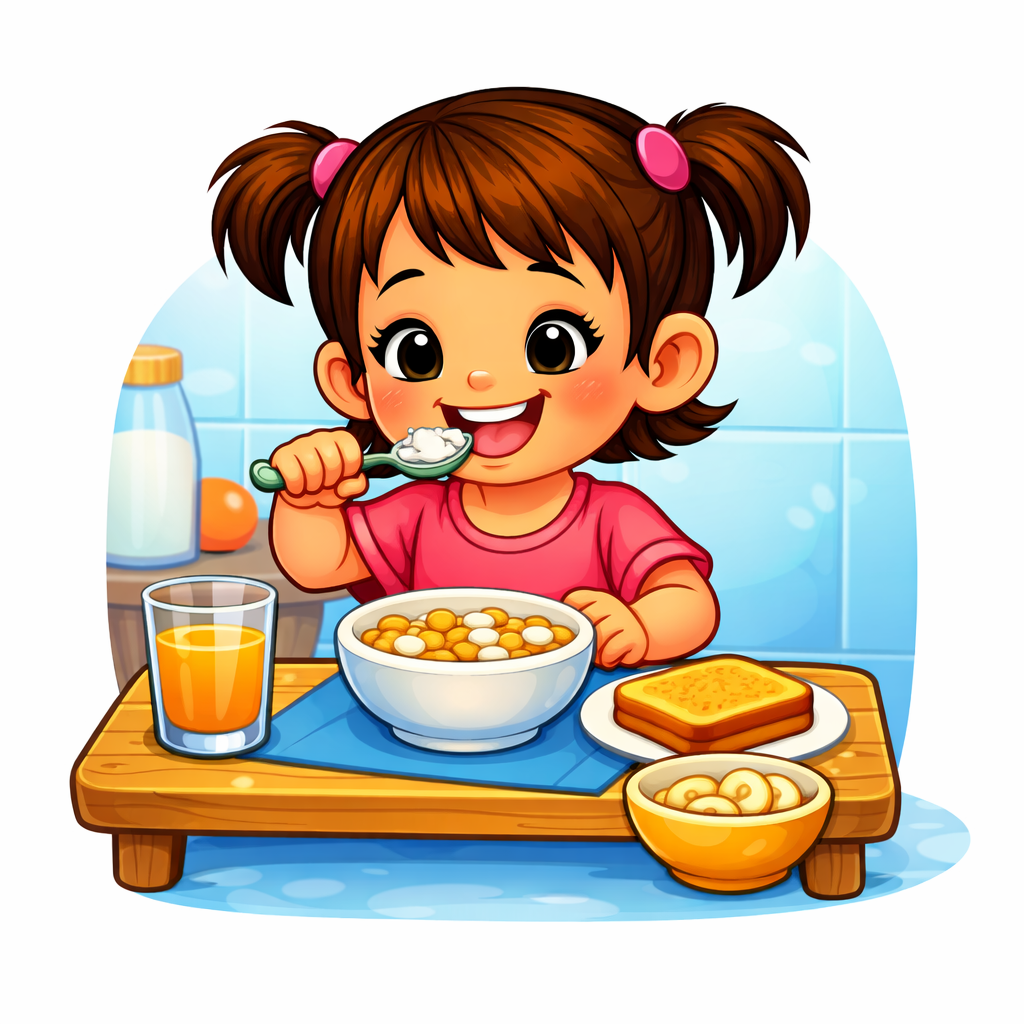Mond: (410, 375, 597, 481)
